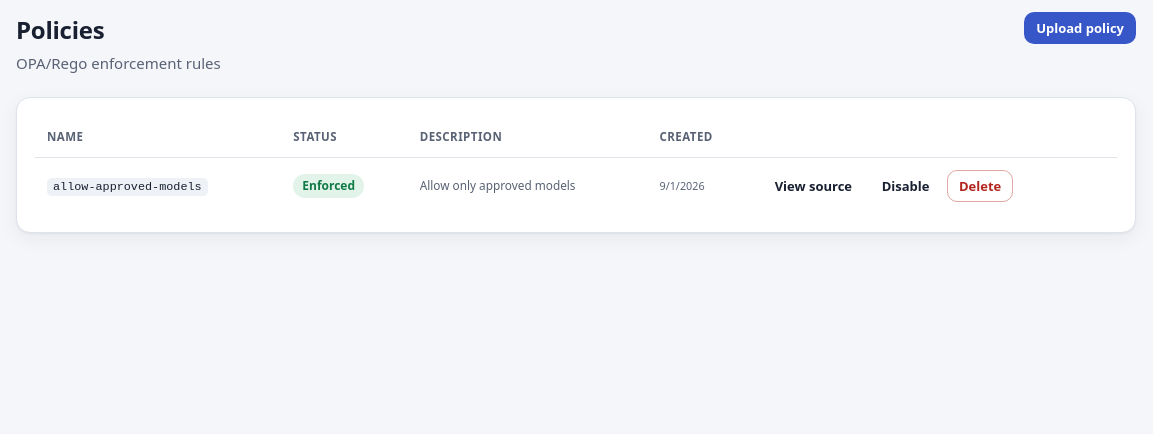
Test: PoliciesPage — source view › opens inline Rego source panel on "View source" click
Click the button "View source" at (813, 186), box left=763, top=170, right=864, bottom=202
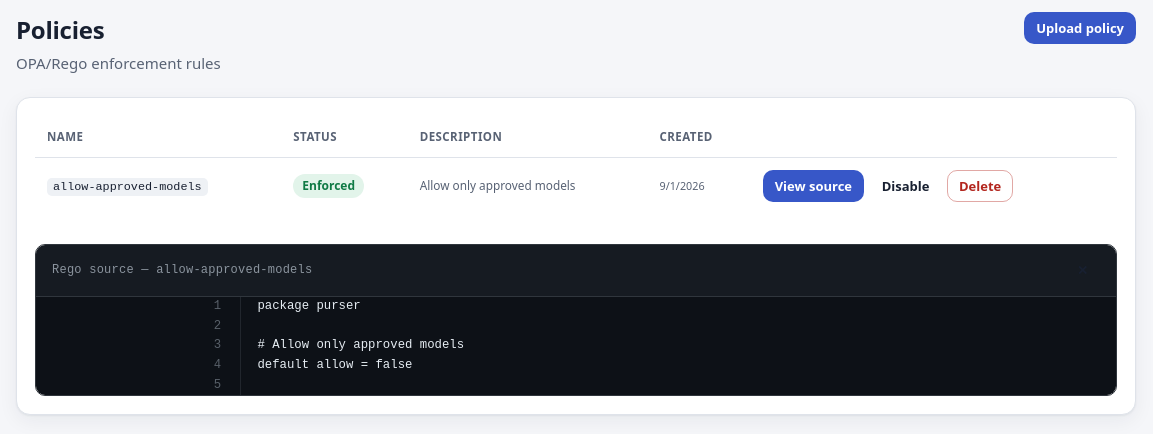
expect the text "package purser" is shown: met, box left=241, top=297, right=1116, bottom=317
